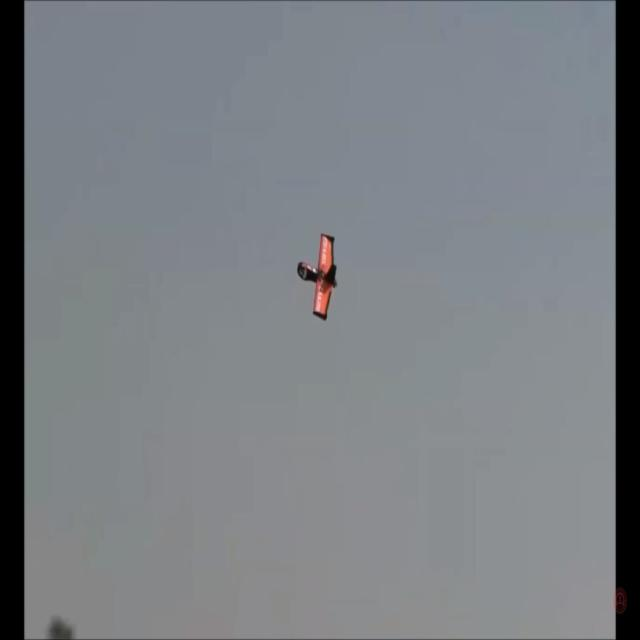iha: (296, 264, 338, 289)
